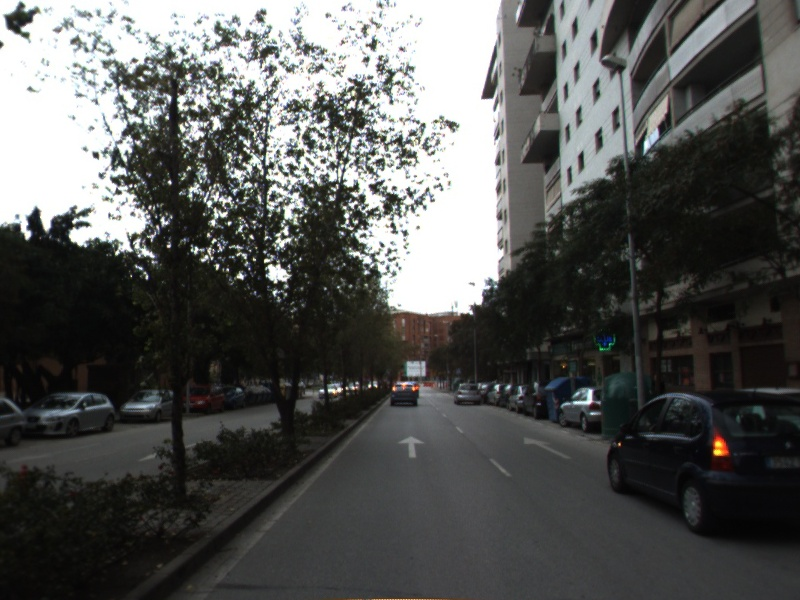STRAIGHT: (522, 435, 575, 461), (396, 433, 428, 460)
